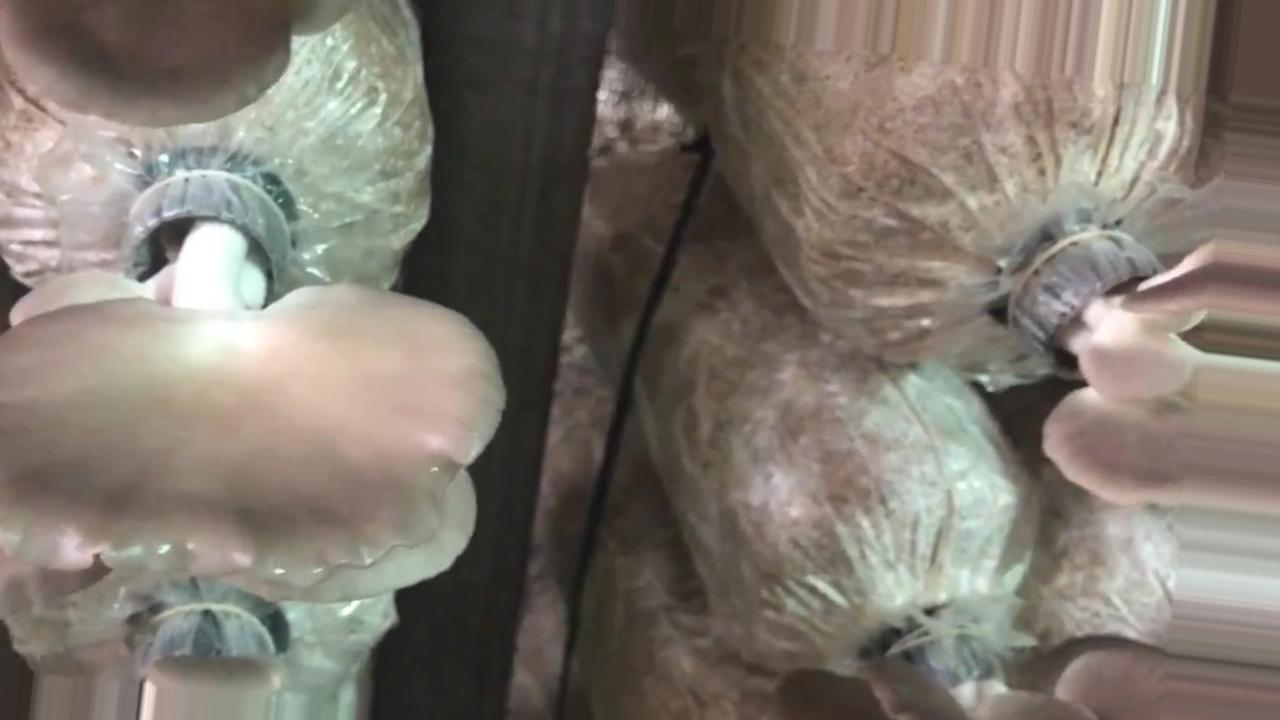nam: (1, 163, 510, 611), (1006, 214, 1278, 505), (1, 2, 349, 128)
